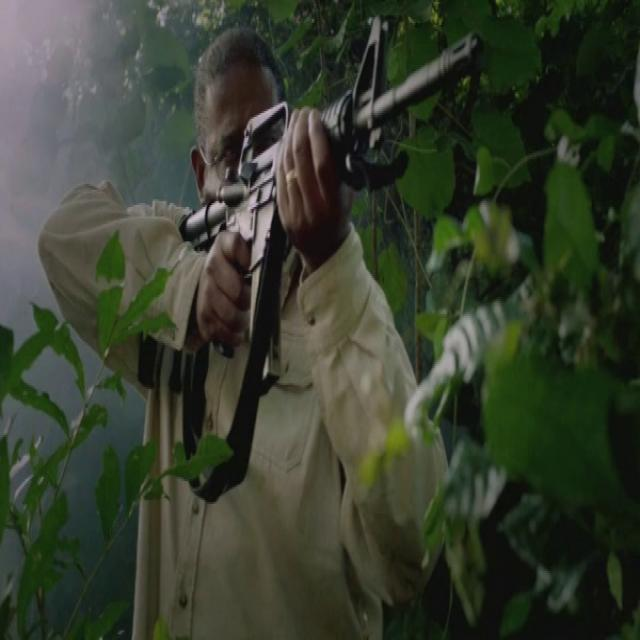rifle: (139, 25, 482, 392)
